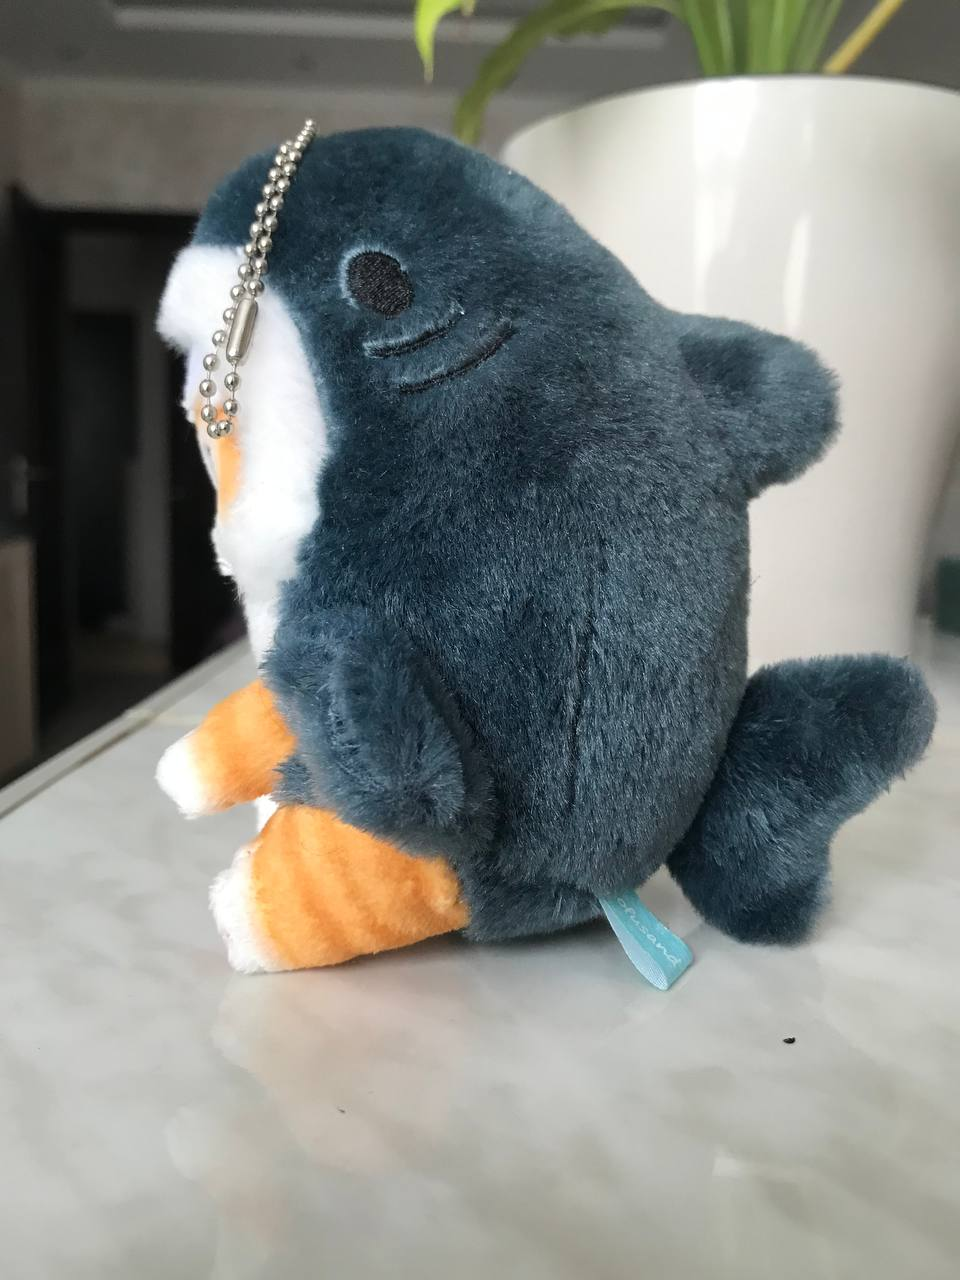cat_shark: (147, 118, 949, 1001)
